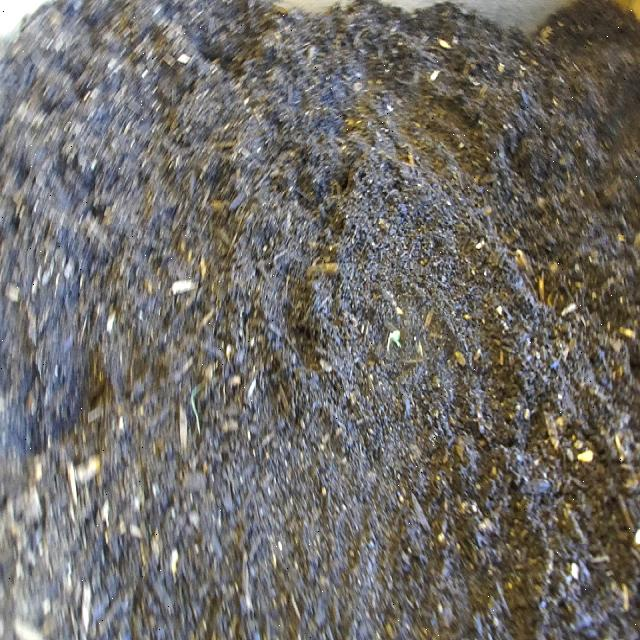Unhealthy: (385, 326, 404, 357)
